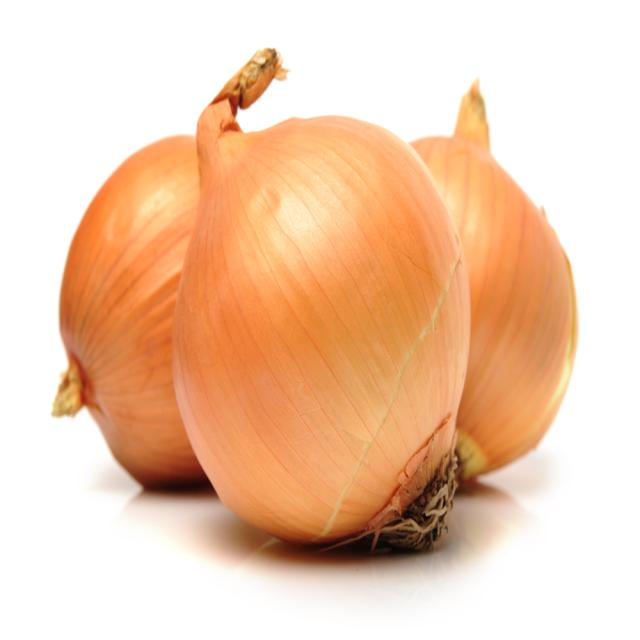onion: (171, 61, 466, 546), (409, 100, 571, 502), (55, 131, 223, 494)
